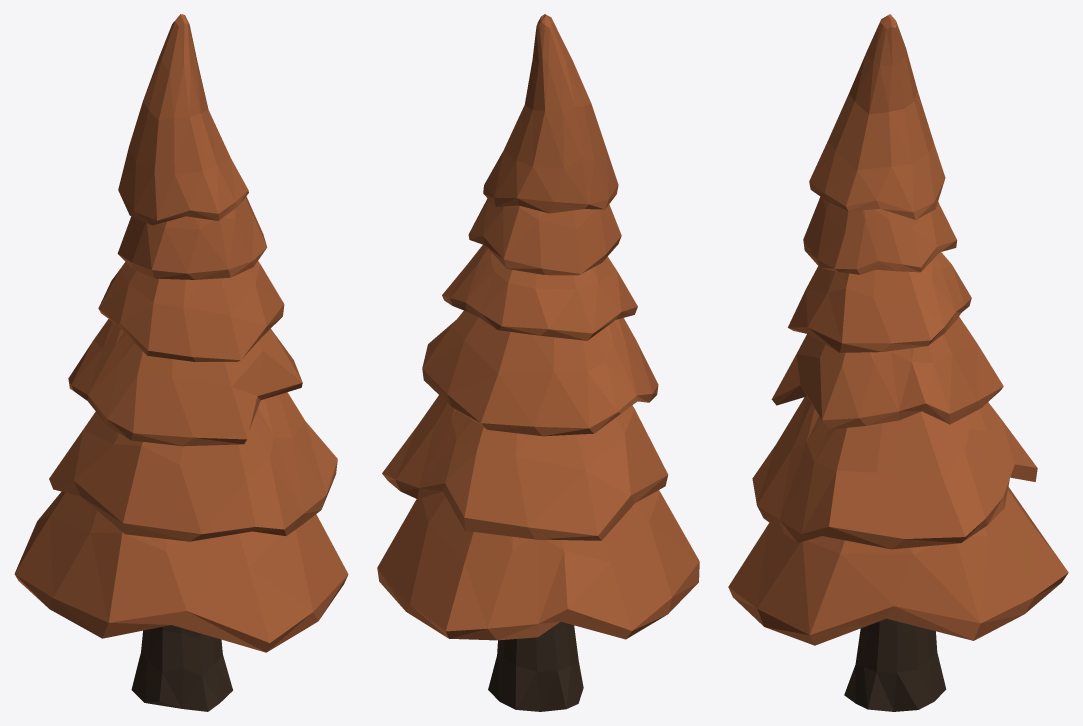
Rendered from pine_tree_2_autumn.glb.
3 views of the same model, side by side, from view 1: azimuth 30°, elevation 25°; view 2: azimuth 150°, elevation 25°; view 3: azimuth 270°, elevation 25° (orthographic).
Visible parts, largest first — view 1: pine_tree_2_autumn; view 2: pine_tree_2_autumn; view 3: pine_tree_2_autumn.
Boxes of the visible parts, box(x1,y1,x2,y2) form: pine_tree_2_autumn: box(14, 14, 348, 711); pine_tree_2_autumn: box(377, 14, 699, 711); pine_tree_2_autumn: box(728, 14, 1068, 711).
Size of the model in its own units: 2.14 by 5.48 by 2.48.
